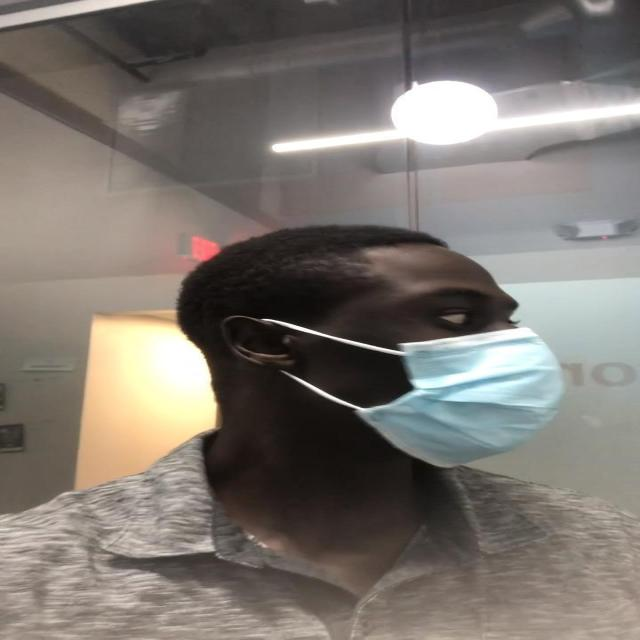no-helmet: (235, 254, 561, 464)
